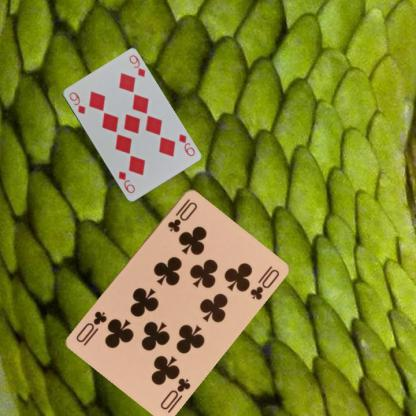10c: (157, 375, 192, 411), (164, 196, 198, 233)
9d: (66, 89, 86, 116), (176, 131, 196, 158)
